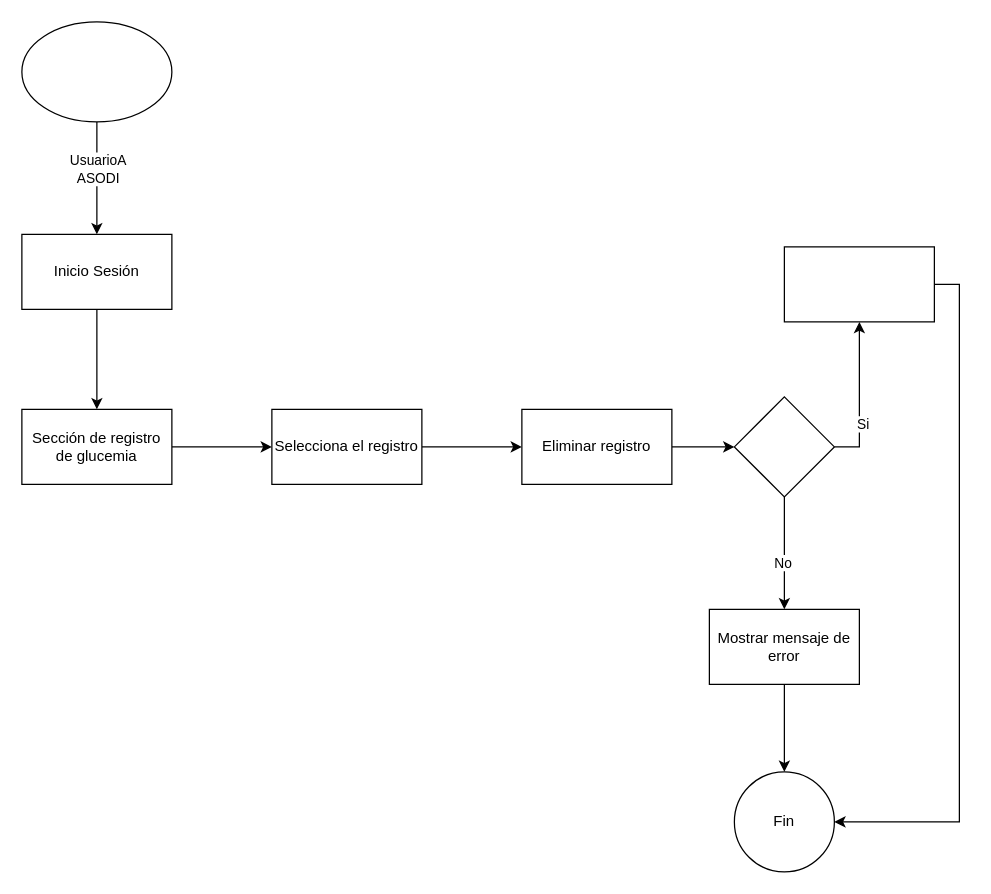
This 991x894 diagram has some shape labels left out. The centre of each missing label's shape, as x and y in pixels:
Inicio: the point at 96,71
Mostrar confirmación de eliminación: the point at 858,284
¿Eliminación Exitosa?: the point at 783,446
